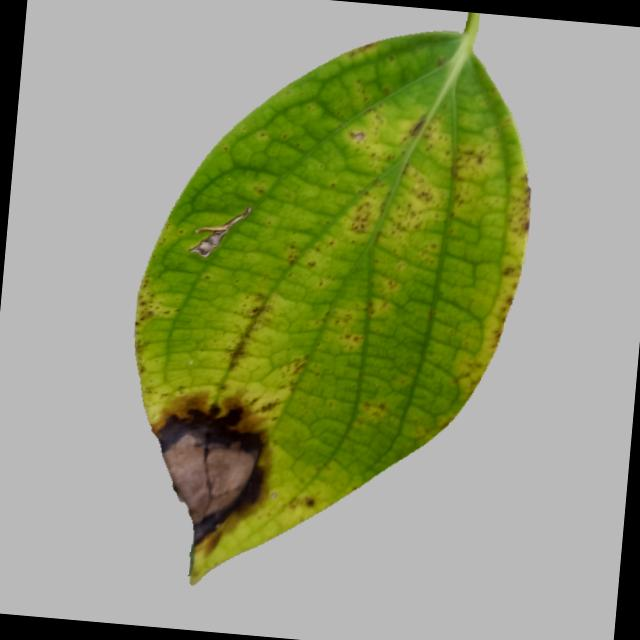leaf-blight: (99, 0, 560, 633)
